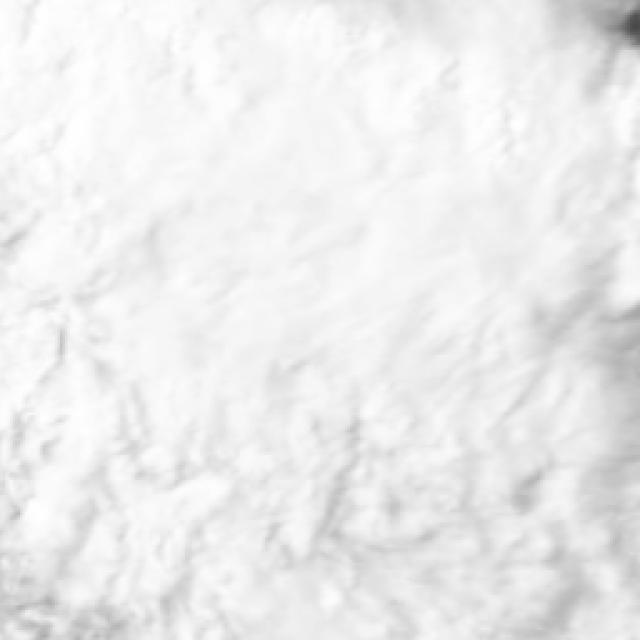CB: (18, 387, 498, 569), (12, 2, 368, 209), (112, 154, 434, 372), (372, 9, 567, 348)
